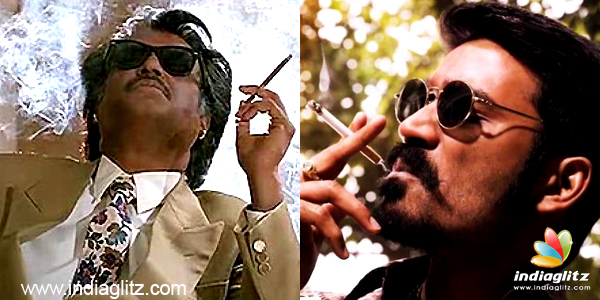cigarette: (304, 96, 394, 174), (244, 45, 297, 110)
